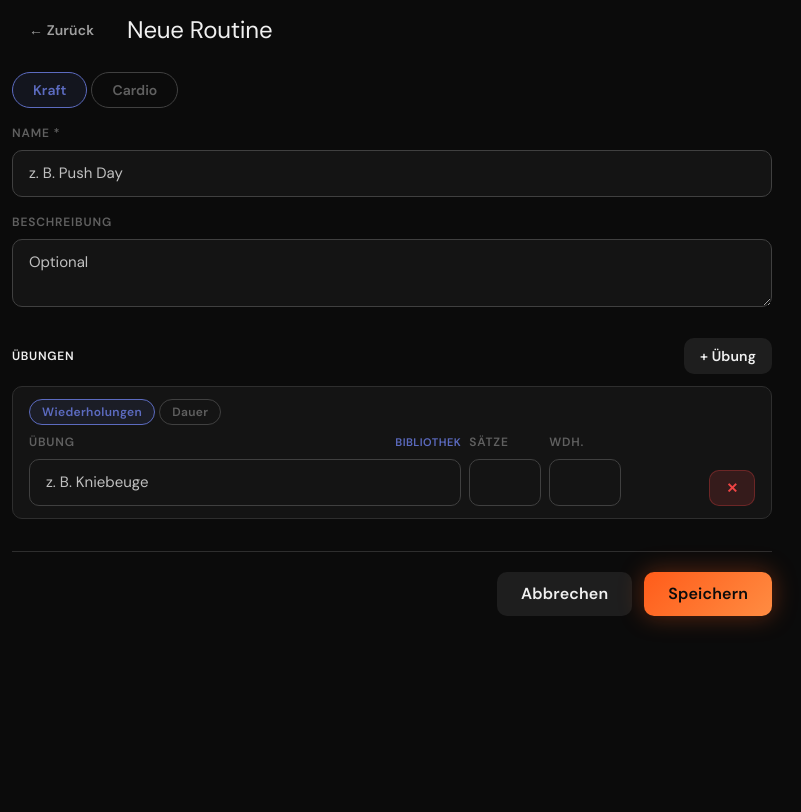
Scenario: RoutineForm – Übungsbibliothek › öffnet Picker mit Suchfeld beim Klick auf Bibliothek
What coordinates should you click on to do the following:
click the button "Bibliothek"
I would click on:
 (428, 442)
Its box is [395,435,461,449].
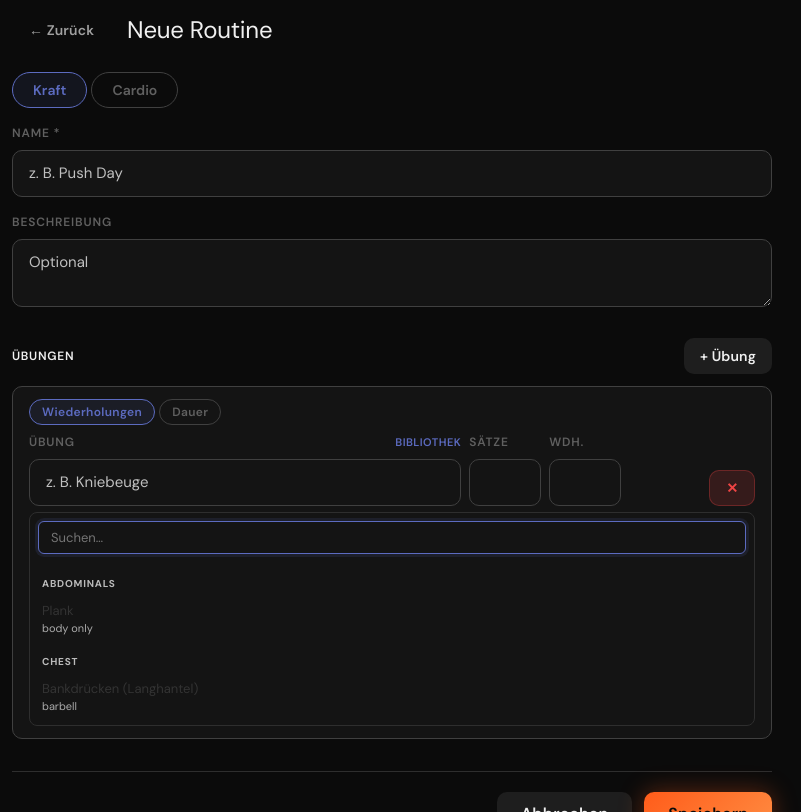
Expected: the field with placeholder "Suchen…" is shown, [38,521,746,554]
